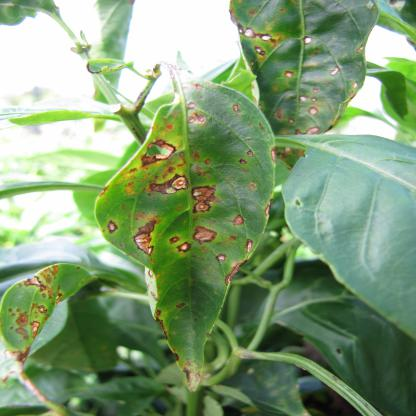Bell_pepper leaf spot: (92, 63, 278, 400), (229, 1, 381, 171), (0, 260, 98, 381)
